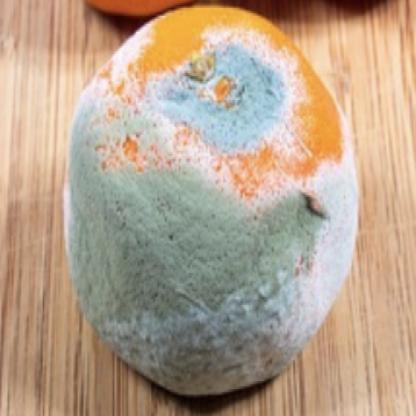rotten: (63, 4, 359, 402)
